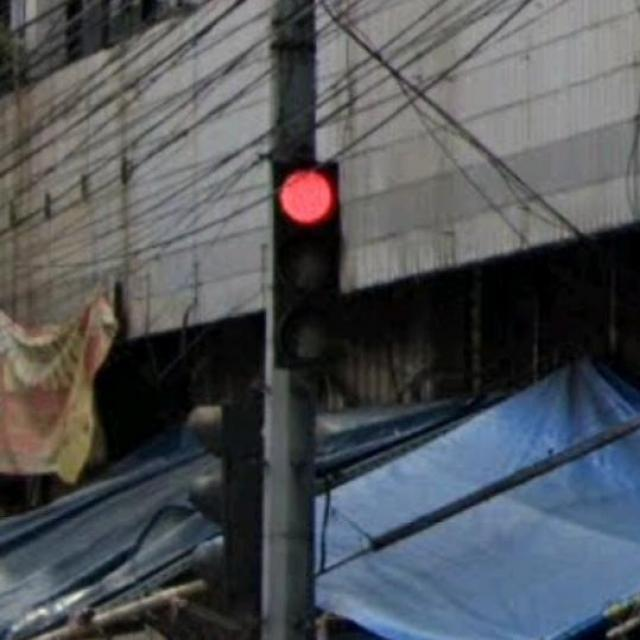red_light: (273, 161, 344, 369)
